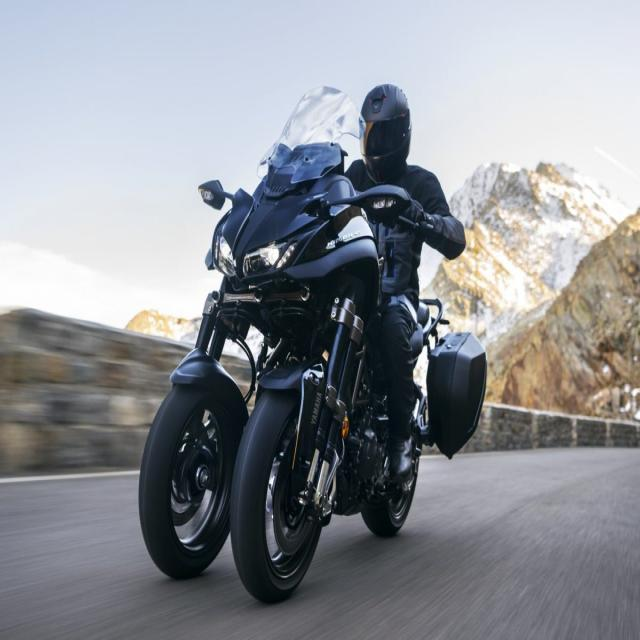Bike: (138, 86, 488, 606)
